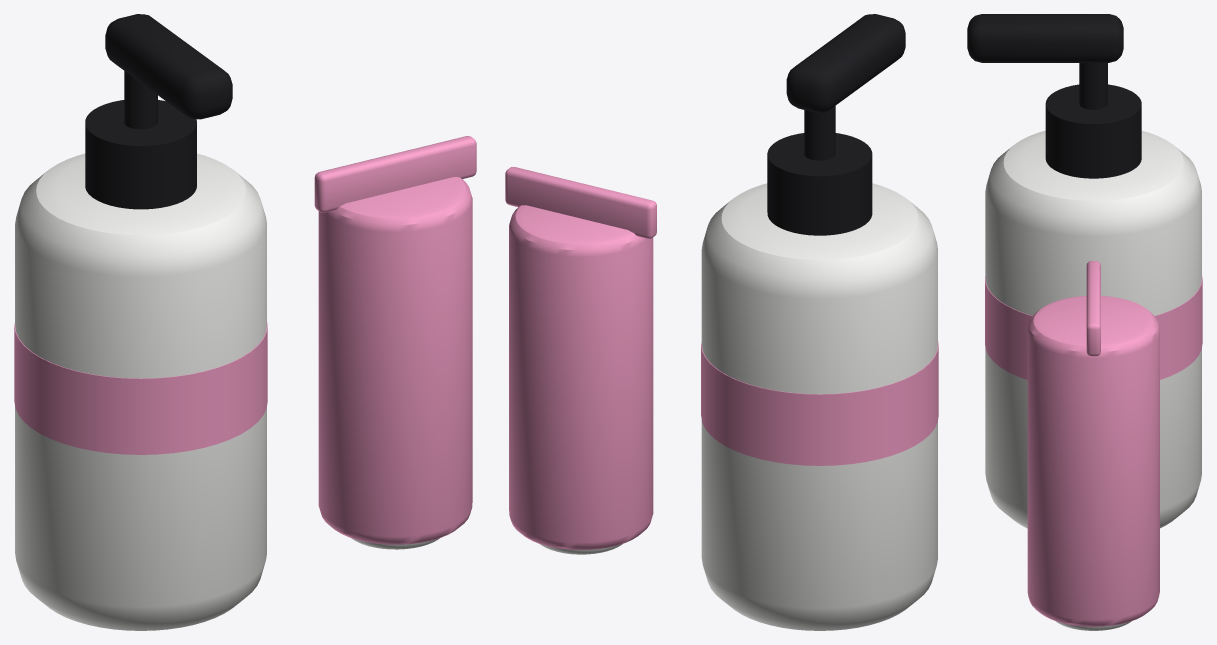
The model's file is cosmetic.glb.
3 renders of one model, left to right at view 1: azimuth 30°, elevation 25°; view 2: azimuth 150°, elevation 25°; view 3: azimuth 270°, elevation 25°, orthographic. The views are drawn at different scales.
Visible parts, largest first — view 1: bottle, tube.006, band.001, collar.001, pump, crimp, stem.001; view 2: bottle, tube.006, band.001, collar.001, pump, crimp, stem.001; view 3: bottle, tube.006, collar.001, pump, band.001, crimp, stem.001.
Part boxes in pixels (x1,y1,x2,y2): bottle: [15, 153, 266, 630]; tube.006: [318, 177, 472, 544]; band.001: [14, 322, 267, 454]; collar.001: [85, 100, 196, 209]; pump: [105, 14, 232, 119]; crimp: [314, 136, 476, 212]; stem.001: [124, 71, 157, 129]; bottle: [701, 183, 937, 630]; tube.006: [509, 205, 653, 549]; band.001: [701, 341, 938, 465]; collar.001: [767, 133, 872, 235]; pump: [786, 14, 905, 112]; crimp: [505, 167, 656, 238]; stem.001: [804, 106, 835, 160]; bottle: [985, 130, 1201, 528]; tube.006: [1027, 296, 1159, 626]; collar.001: [1045, 84, 1141, 178]; pump: [967, 14, 1123, 62]; band.001: [985, 276, 1202, 379]; crimp: [1086, 261, 1100, 356]; stem.001: [1079, 63, 1107, 109].
Bounding box in the file's own units: 0.3655 × 0.4475 × 0.1955.
